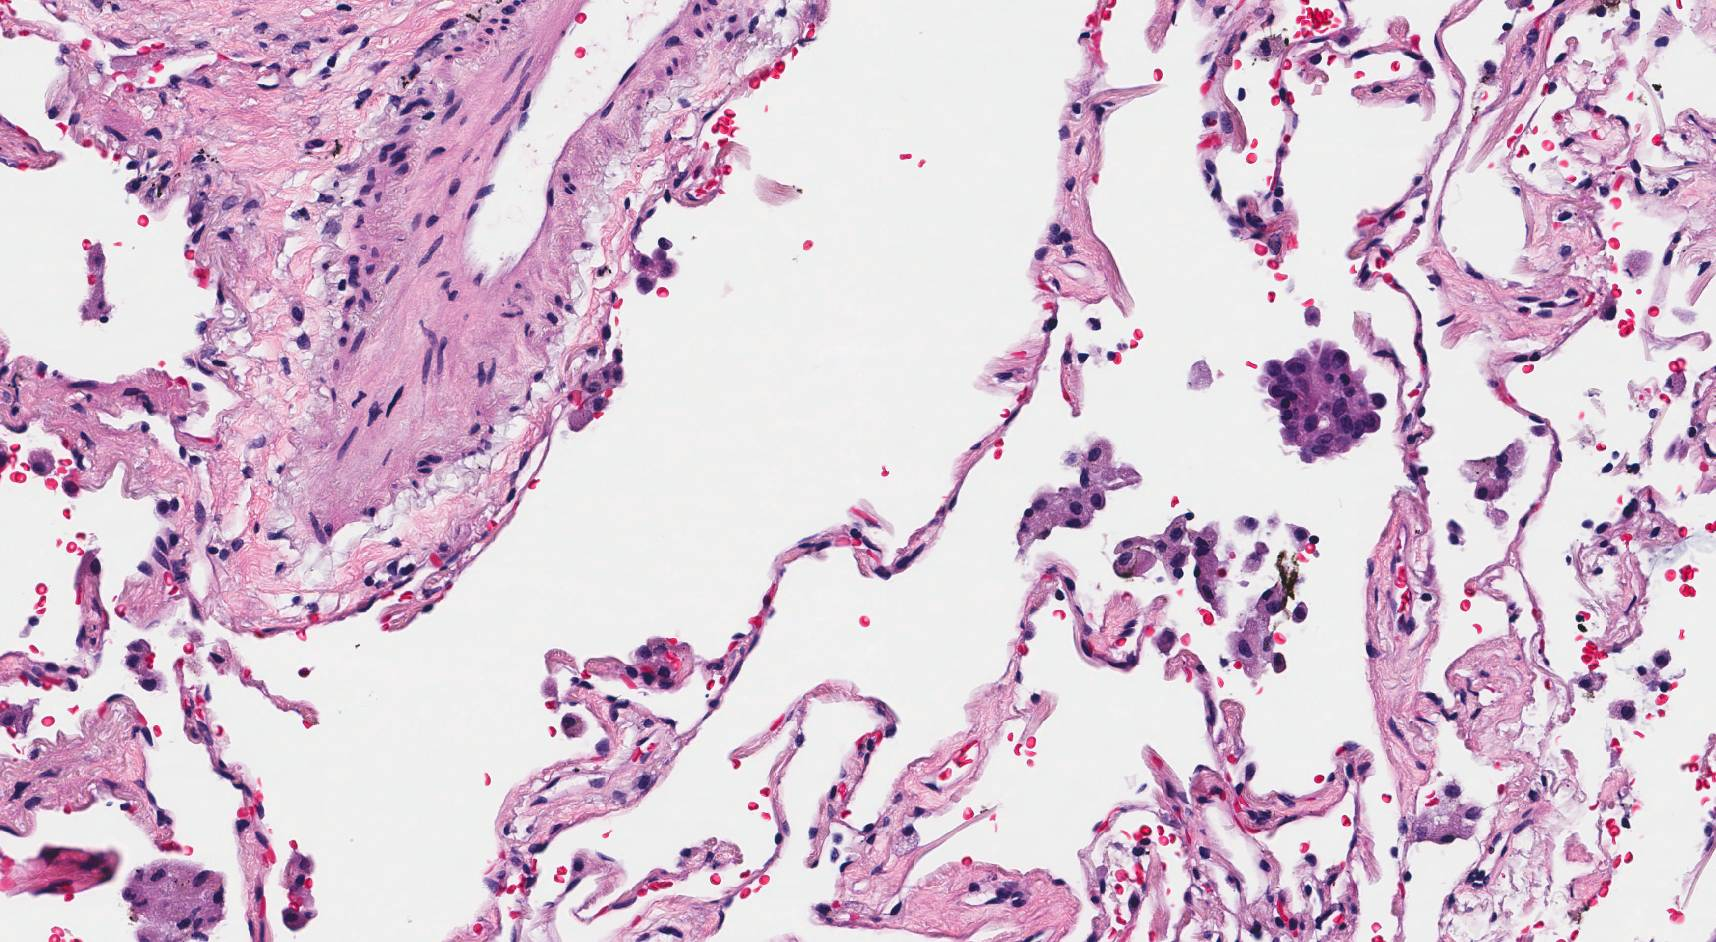stas: (1258, 341, 1386, 466)
